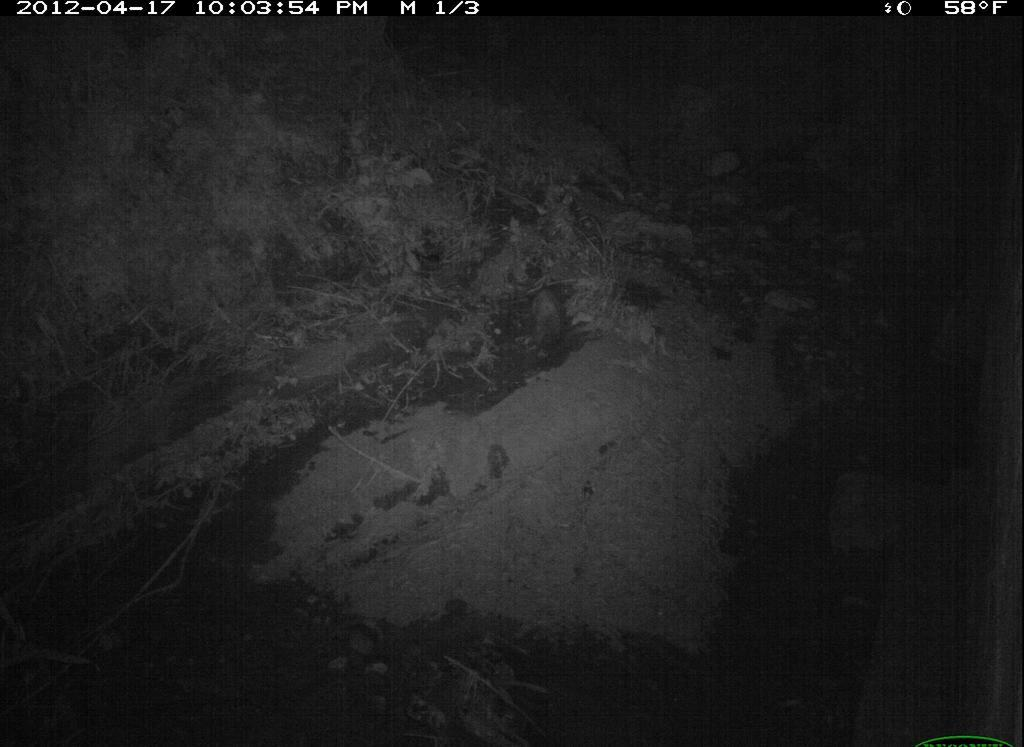opossum: (528, 291, 569, 360)
